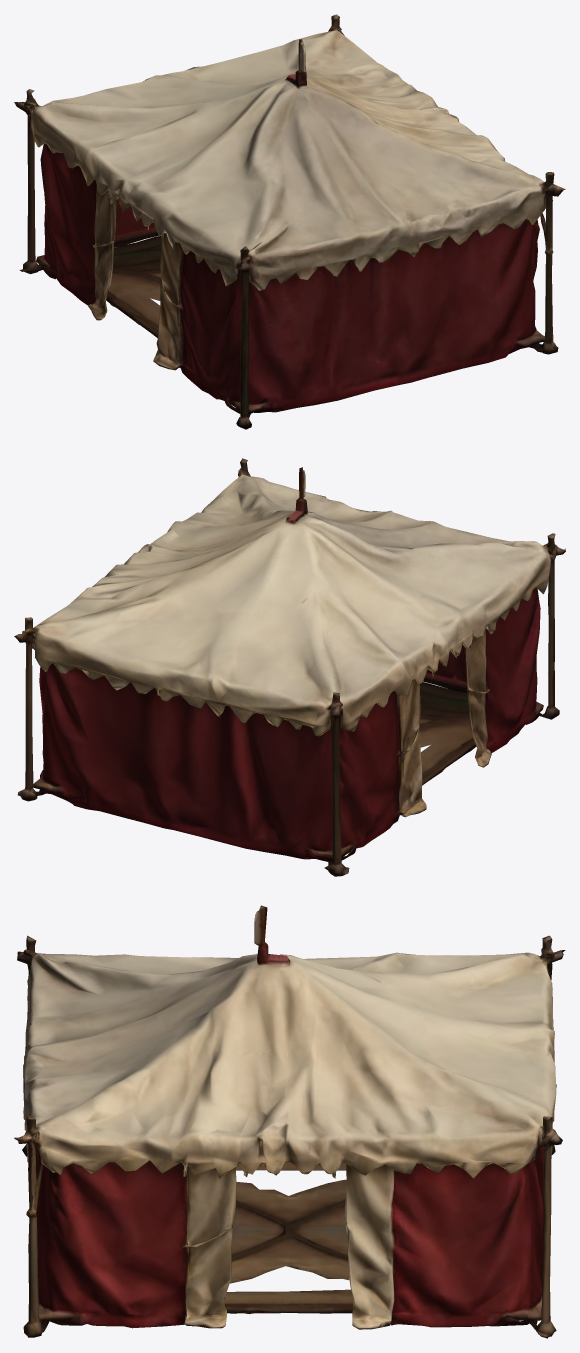
The model's file is tent-mid.glb.
3 views of the same model, one above another, from view 1: azimuth 30°, elevation 25°; view 2: azimuth 150°, elevation 25°; view 3: azimuth 270°, elevation 25° (orthographic). The views are drawn at different scales.
Bounding box in the file's own units: 0.8307 × 0.6743 × 0.9974.
Materials: 1 (1 with a texture image).
